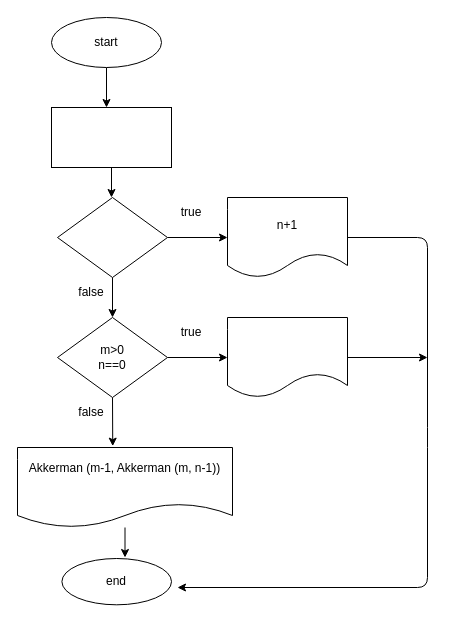
This 453x623 diagram has some shape labels left out. Each missing label, with the centre of its shape:
"Akkerman (m-1,1)" belongs at [287,357].
"m==0" belongs at [112,237].
"number n => 0 number m =>0" belongs at [111,137].
